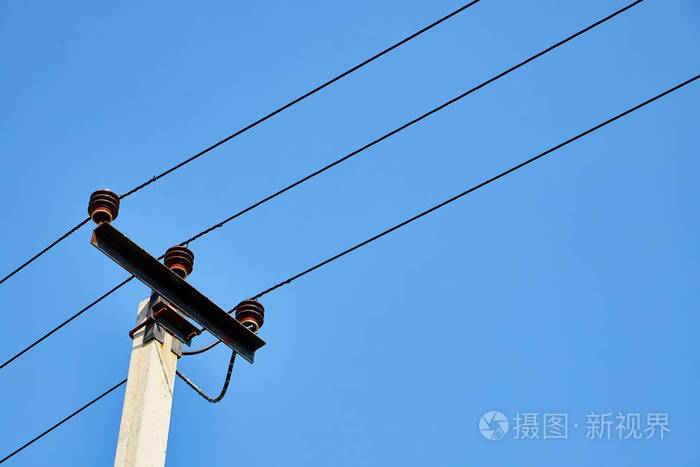insulator: (87, 188, 123, 219), (236, 299, 267, 327), (166, 246, 198, 270)
